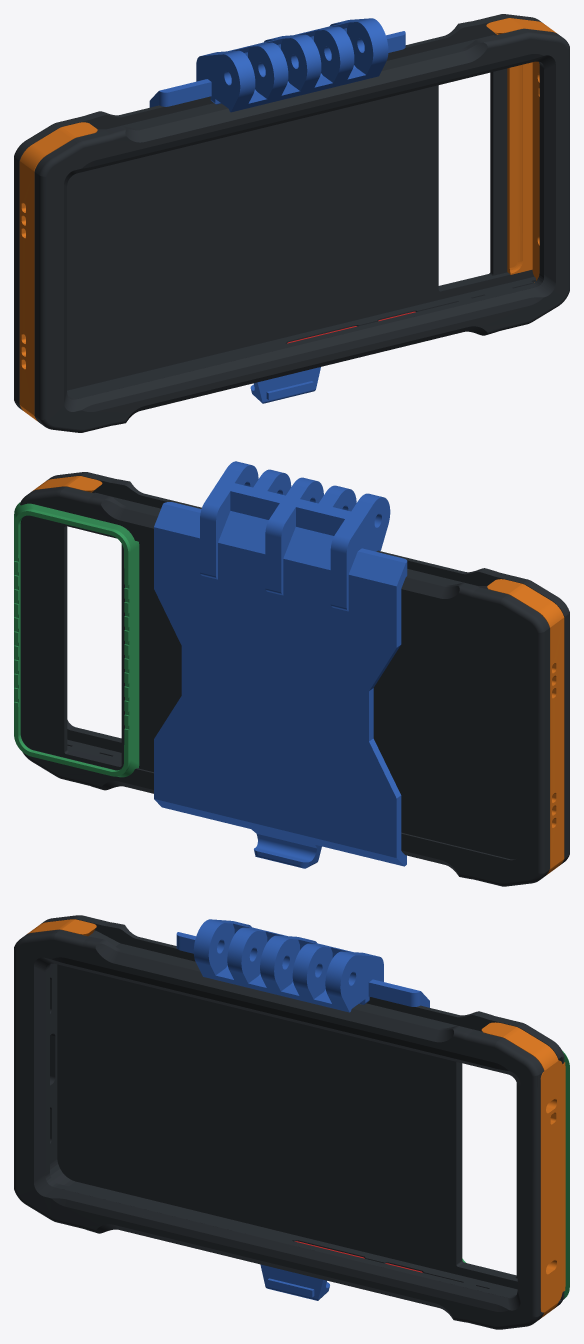
The model's file is pixel6a_assembly.obj.
3 renders of one model, top to bottom at view 1: azimuth 30°, elevation 25°; view 2: azimuth 150°, elevation 25°; view 3: azimuth 330°, elevation 25°, orthographic.
Visible parts, largest first — view 1: case, molle_adapter, top_cap, bottom_cap; view 2: molle_adapter, case, camera_protector_cap, bottom_cap, top_cap; view 3: case, molle_adapter, top_cap, camera_protector_cap, bottom_cap.
Part boxes in pixels (x1,y1,x2,y2): case: (14,14,569,432); molle_adapter: (149,18,405,403); top_cap: (486,18,556,282); bottom_cap: (19,122,97,421); molle_adapter: (154,461,407,868); case: (20,472,569,886); camera_protector_cap: (14,502,139,777); bottom_cap: (487,579,564,875); top_cap: (33,476,102,492); case: (14,915,564,1329); molle_adapter: (176,919,429,1300); top_cap: (481,1022,565,1318); camera_protector_cap: (462,1050,569,1299); bottom_cap: (27,919,96,936).
Bounding box in the file's own units: 165 × 109 × 23.5.
